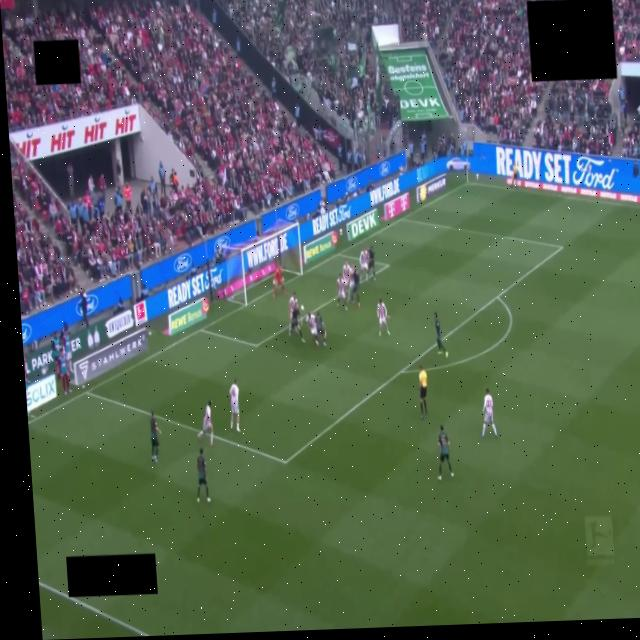ball: (301, 306, 304, 311)
player: (434, 424, 454, 481), (482, 388, 497, 438), (198, 400, 214, 446), (197, 449, 210, 503), (290, 295, 304, 342), (434, 313, 448, 357), (289, 293, 302, 339), (230, 379, 240, 431), (150, 411, 160, 462), (377, 299, 390, 336), (307, 312, 319, 347), (350, 268, 360, 307), (273, 264, 285, 296), (342, 261, 352, 297), (316, 312, 326, 347), (337, 276, 346, 310), (367, 246, 375, 280), (360, 248, 368, 280)
referee: (419, 365, 427, 418)
